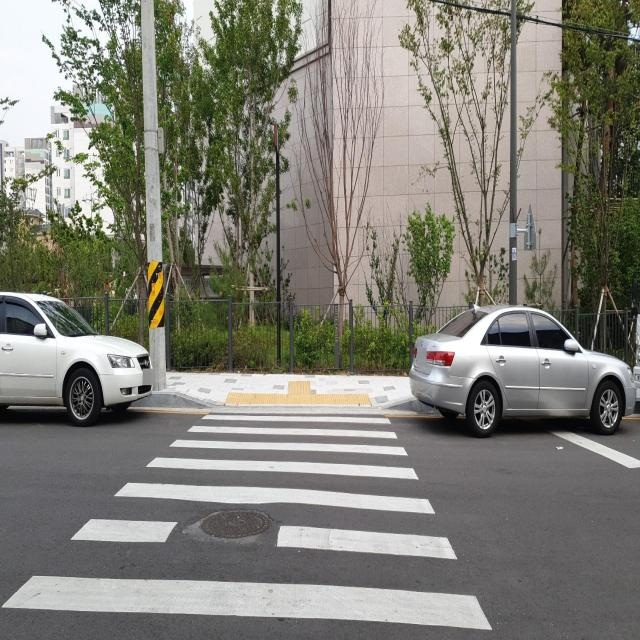횡단보도: (1, 414, 494, 635)
